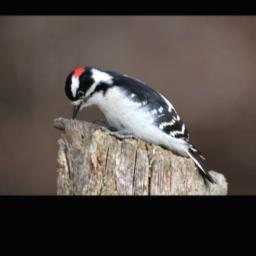Woodpecker: (63, 64, 219, 186)
